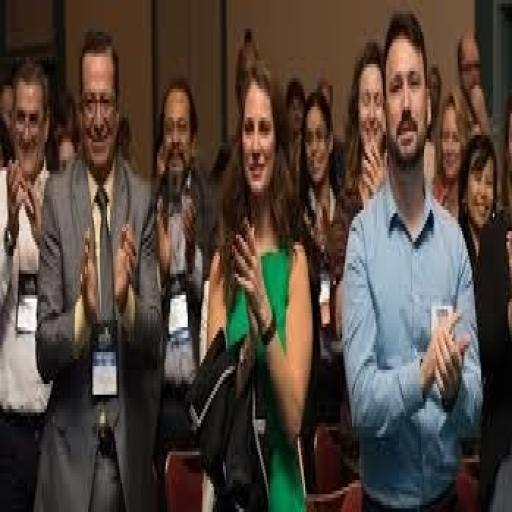clapping: (339, 7, 484, 509), (32, 25, 164, 508), (198, 57, 315, 508)
